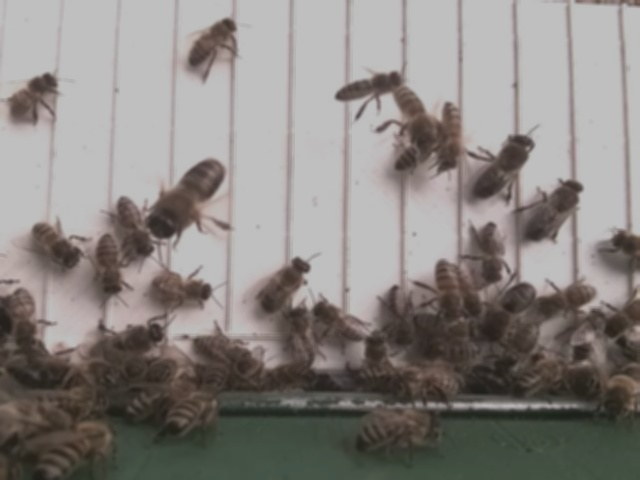Drone: (150, 155, 227, 238), (472, 131, 537, 200), (82, 319, 166, 367), (526, 175, 585, 241), (478, 281, 538, 343), (255, 255, 311, 318)
Worker: (393, 81, 441, 151), (357, 415, 442, 449), (185, 15, 239, 68), (113, 193, 156, 256), (10, 70, 60, 122), (333, 68, 404, 103), (435, 99, 466, 175), (10, 284, 44, 352), (31, 221, 82, 265), (189, 332, 255, 366), (313, 300, 369, 340), (148, 270, 215, 303), (433, 256, 466, 321), (477, 218, 508, 287), (538, 282, 599, 316), (93, 234, 126, 296), (289, 304, 319, 368), (386, 280, 411, 349), (401, 370, 462, 396)
